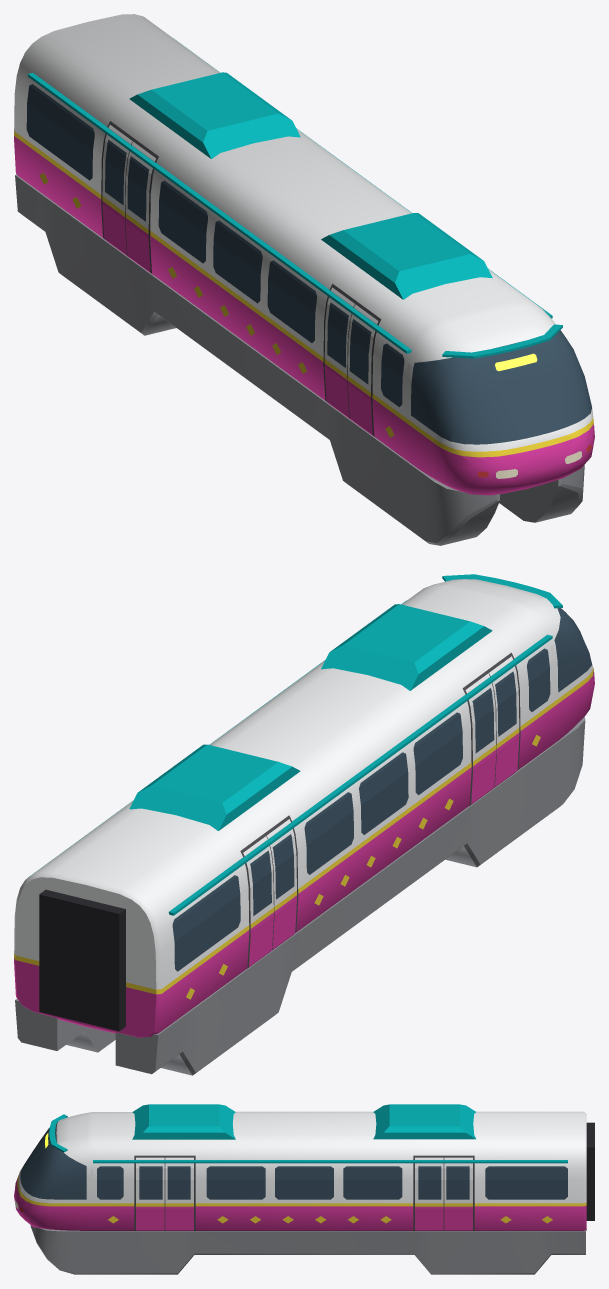
The picture shows the model from 3 angles, top to bottom: view 1: azimuth 30°, elevation 25°; view 2: azimuth 150°, elevation 25°; view 3: azimuth 270°, elevation 25°; orthographic projection. The views are drawn at different scales.
Parts seen in each view (by area): view 1: 24_4; view 2: 24_4; view 3: 24_4.
Part boxes in pixels (<box>): 24_4: <box>14,14,594,545</box>; 24_4: <box>14,574,594,1075</box>; 24_4: <box>14,1104,594,1274</box>.
Size of the model in its own units: 2.6 by 3.7 by 14.
